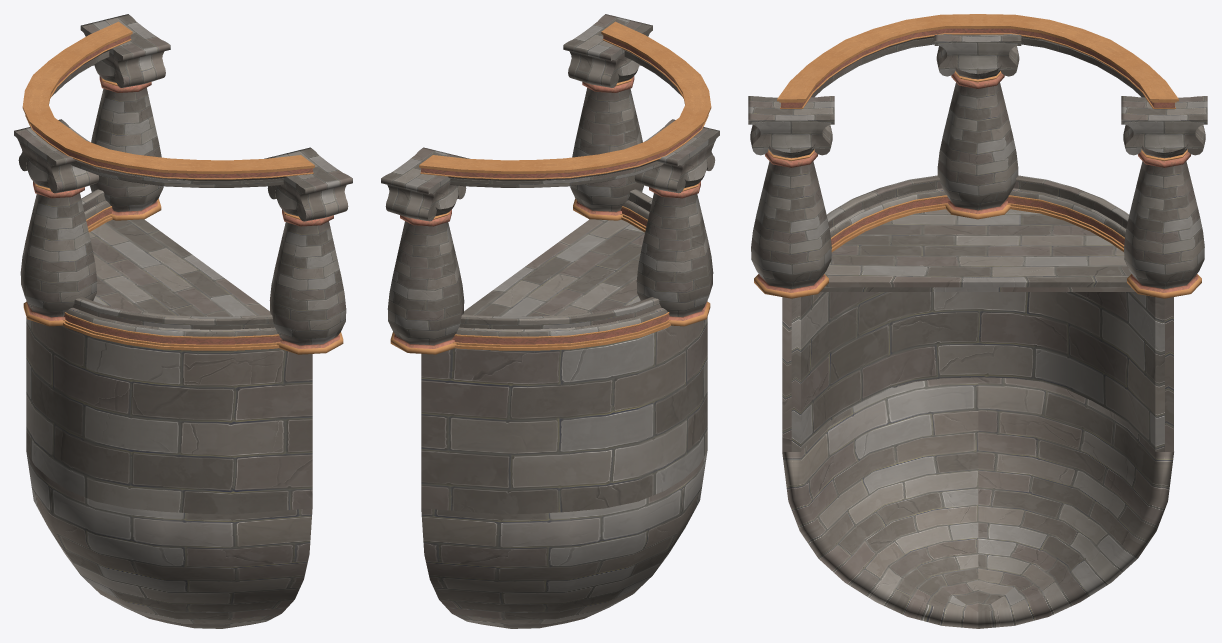
Rendered from balconyv2_complete_pillared.fbx.
3 renders of one model, left to right at view 1: azimuth 30°, elevation 25°; view 2: azimuth 150°, elevation 25°; view 3: azimuth 270°, elevation 25°, orthographic. The views are drawn at different scales.
Visible parts, largest first — view 1: wall_pill_mid_flat:polySurface933polySurface920polySurface91, wall_pill_mid_flat:polySurface939, pillar_classic_bottom4, pillar_classic_bottom5, floor_half_round4, pillar_classic_bottom3, polySurface652, polySurface655, polySurface477, polySurface490, polySurface479, polySurface649 (+5 smaller); view 2: wall_pill_mid_flat:polySurface933polySurface920polySurface91, wall_pill_mid_flat:polySurface939, pillar_classic_bottom3, pillar_classic_bottom5, floor_half_round4, pillar_classic_bottom4, polySurface655, polySurface652, polySurface502, polySurface501, polySurface658, polySurface498 (+5 smaller); view 3: wall_pill_mid_flat:polySurface939, wall_pill_mid_flat:polySurface933polySurface920polySurface91, floor_half_round4, pillar_classic_bottom4, pillar_classic_bottom3, pillar_classic_bottom5, polySurface655, polySurface652, polySurface502, polySurface477, polySurface501, polySurface490 (+8 smaller).
Boxes of the visible parts, x1,y1,x2,y2 form: wall_pill_mid_flat:polySurface933polySurface920polySurface91: (26, 300, 312, 514); wall_pill_mid_flat:polySurface939: (26, 451, 312, 628); pillar_classic_bottom4: (264, 147, 352, 354); pillar_classic_bottom5: (14, 119, 98, 326); floor_half_round4: (89, 219, 270, 316); pillar_classic_bottom3: (80, 14, 170, 220); polySurface652: (46, 129, 314, 173); polySurface655: (22, 21, 132, 136); polySurface477: (72, 297, 274, 329); polySurface490: (66, 308, 277, 336); polySurface479: (63, 319, 280, 350); polySurface649: (70, 161, 283, 187); wall_pill_mid_flat:polySurface933polySurface920polySurface91: (421, 300, 707, 514); wall_pill_mid_flat:polySurface939: (421, 452, 707, 628); pillar_classic_bottom3: (381, 147, 469, 354); pillar_classic_bottom5: (634, 119, 719, 326); floor_half_round4: (463, 219, 644, 316); pillar_classic_bottom4: (563, 14, 652, 220); polySurface655: (419, 129, 687, 173); polySurface652: (601, 21, 711, 136); polySurface502: (459, 297, 661, 329); polySurface501: (456, 307, 667, 336); polySurface658: (450, 161, 663, 187); polySurface498: (453, 319, 670, 350); wall_pill_mid_flat:polySurface939: (782, 377, 1173, 628); wall_pill_mid_flat:polySurface933polySurface920polySurface91: (782, 292, 1173, 451); floor_half_round4: (820, 209, 1135, 291); pillar_classic_bottom4: (748, 96, 834, 298); pillar_classic_bottom3: (1121, 96, 1207, 298); pillar_classic_bottom5: (934, 34, 1021, 219); polySurface655: (978, 14, 1178, 102); polySurface652: (777, 14, 977, 102); polySurface502: (1013, 175, 1129, 228); polySurface477: (826, 175, 942, 228); polySurface501: (1009, 188, 1126, 237); polySurface490: (829, 188, 946, 237).
Size of the model in its own units: 7.17 by 15.67 by 12.32.
